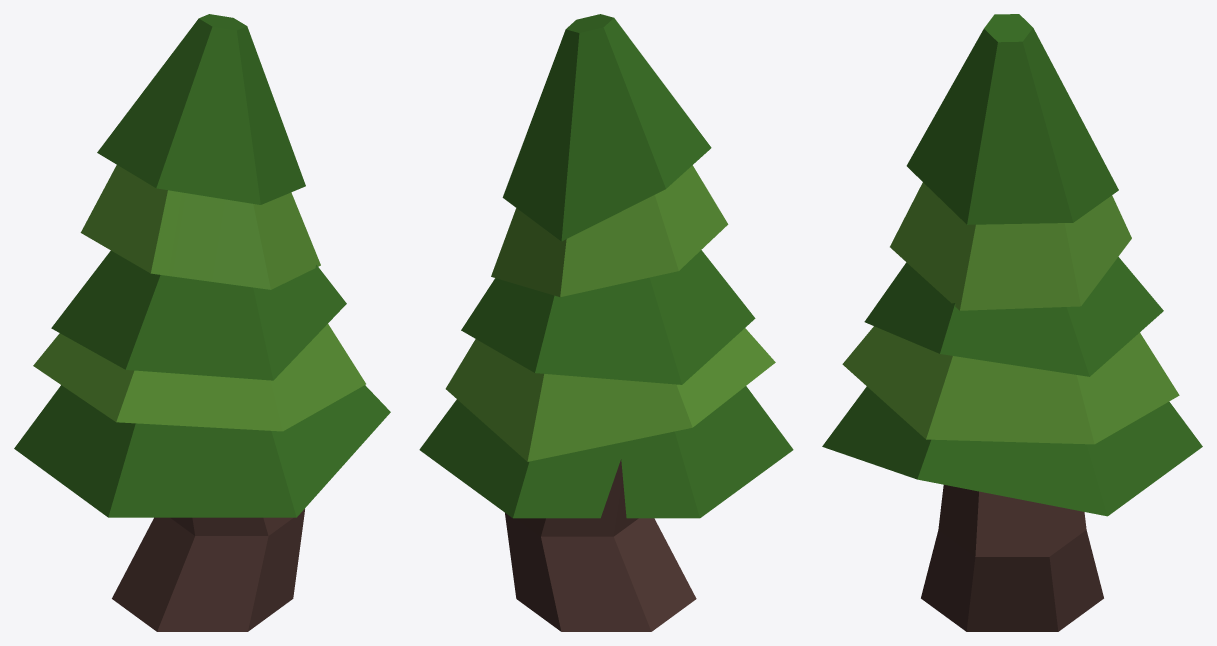
File: Tree_7.fbx
3 views of the same model, side by side, from view 1: azimuth 30°, elevation 25°; view 2: azimuth 150°, elevation 25°; view 3: azimuth 270°, elevation 25° (orthographic).
Parts seen in each view (by area): view 1: Tree_7; view 2: Tree_7; view 3: Tree_7.
Part boxes in pixels (<box>): Tree_7: <box>14,14,390,631</box>; Tree_7: <box>419,14,793,631</box>; Tree_7: <box>822,14,1202,631</box>.
Size of the model in its own units: 606 by 1184 by 699.
